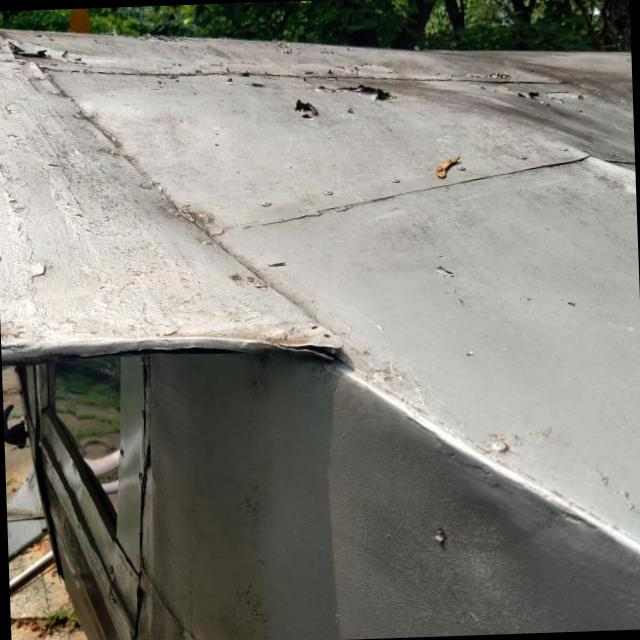Crack: (280, 332, 352, 364)
